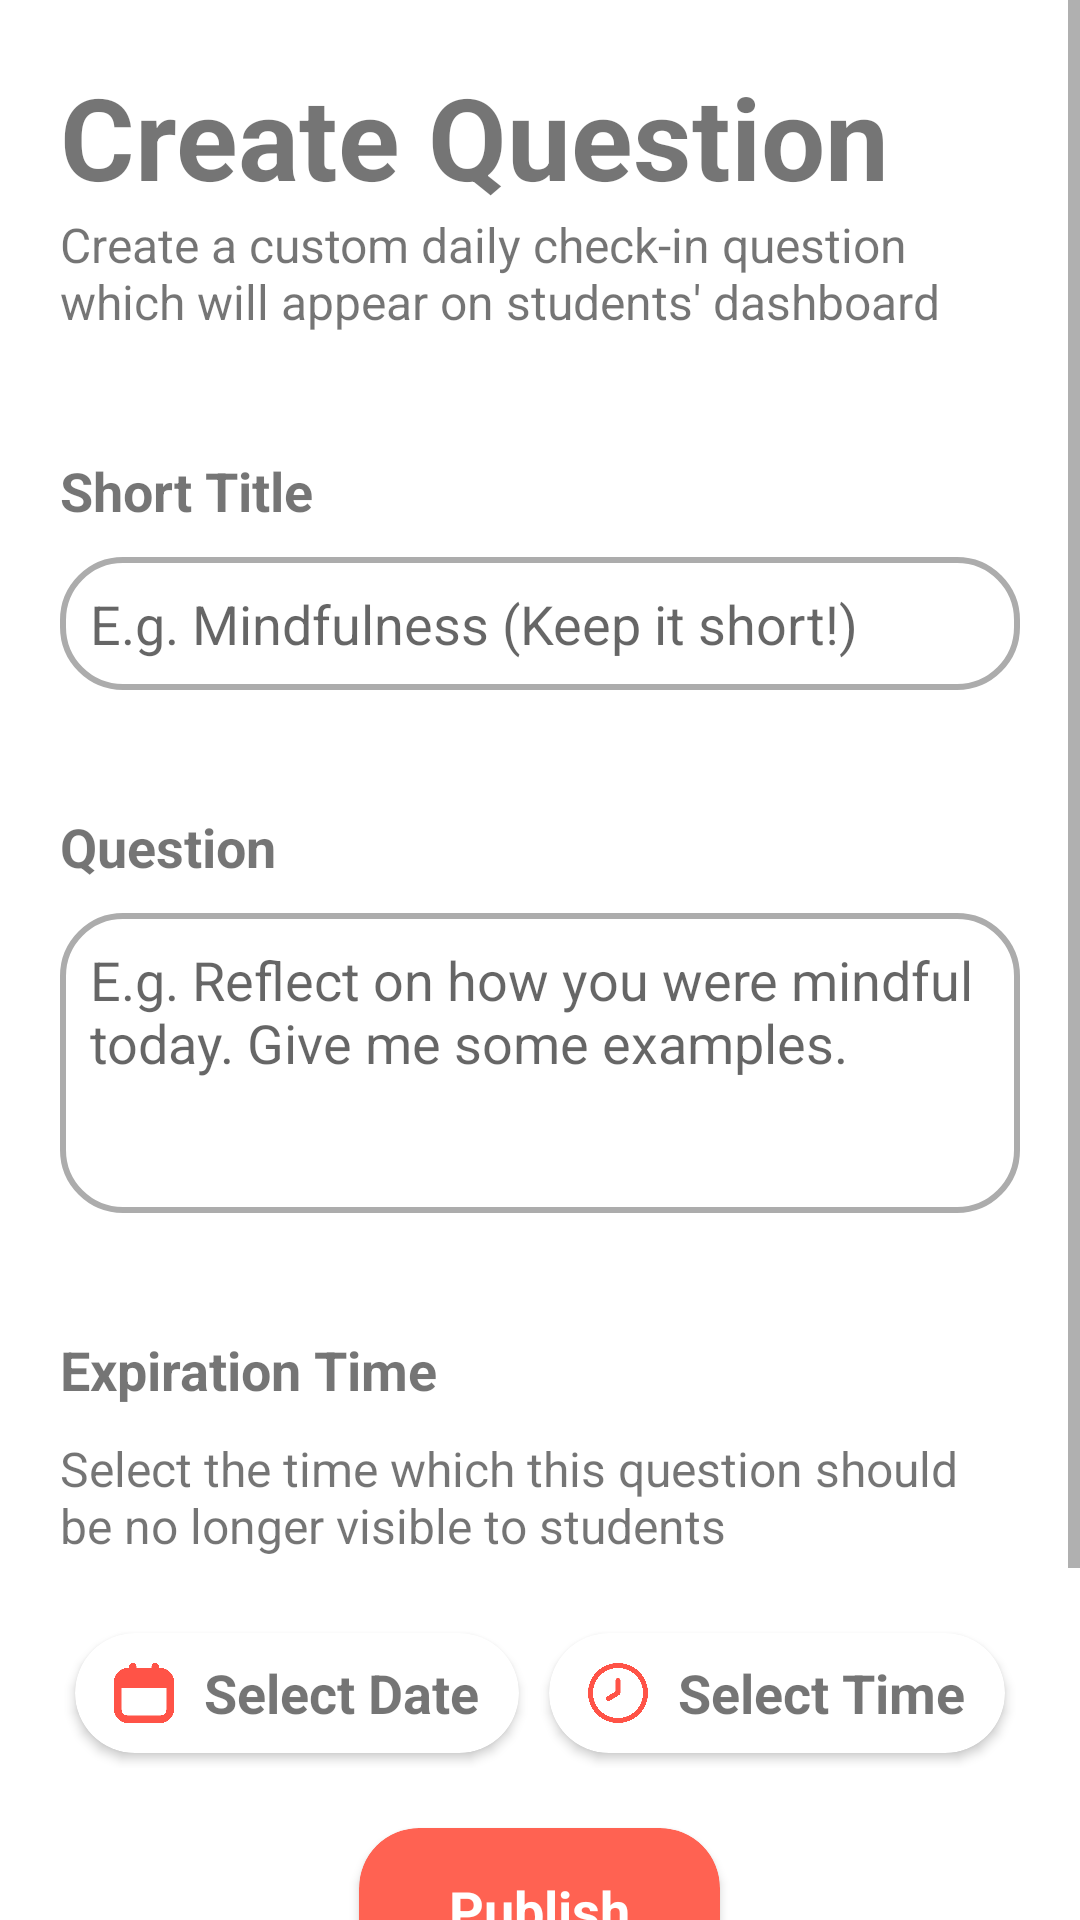

Icons on this 1080*1920 Android screen, each with its box as (left=x1, top=y1, right=x2, bottom=y2):
timebig: (left=588, top=1663, right=648, bottom=1723)
